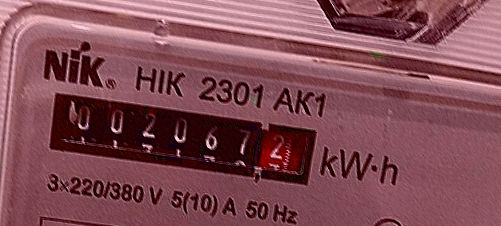0: (72, 101, 94, 133), (106, 104, 127, 135), (169, 113, 190, 143)
2: (266, 130, 288, 161), (139, 109, 160, 140)
6: (201, 120, 223, 152)
7: (233, 125, 253, 157)
screen: (32, 77, 332, 199)
